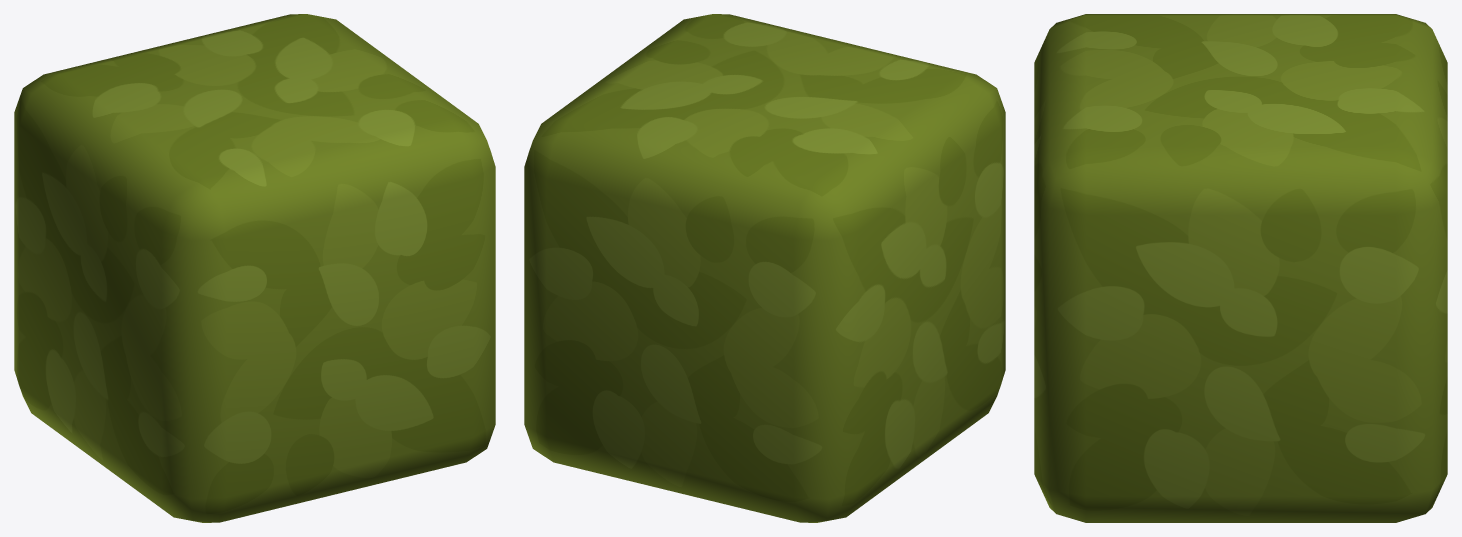
3 views of the same model, side by side, from view 1: azimuth 30°, elevation 25°; view 2: azimuth 150°, elevation 25°; view 3: azimuth 270°, elevation 25° (orthographic). The views are drawn at different scales.
Visible parts, largest first — view 1: Cube; view 2: Cube; view 3: Cube.
Part boxes in pixels (bbox=[...]): Cube: bbox=[14, 14, 495, 522]; Cube: bbox=[524, 14, 1005, 522]; Cube: bbox=[1034, 14, 1447, 522].
Bounding box in the file's own units: 1 × 1 × 1.
Materials: 1 (1 with a texture image).
